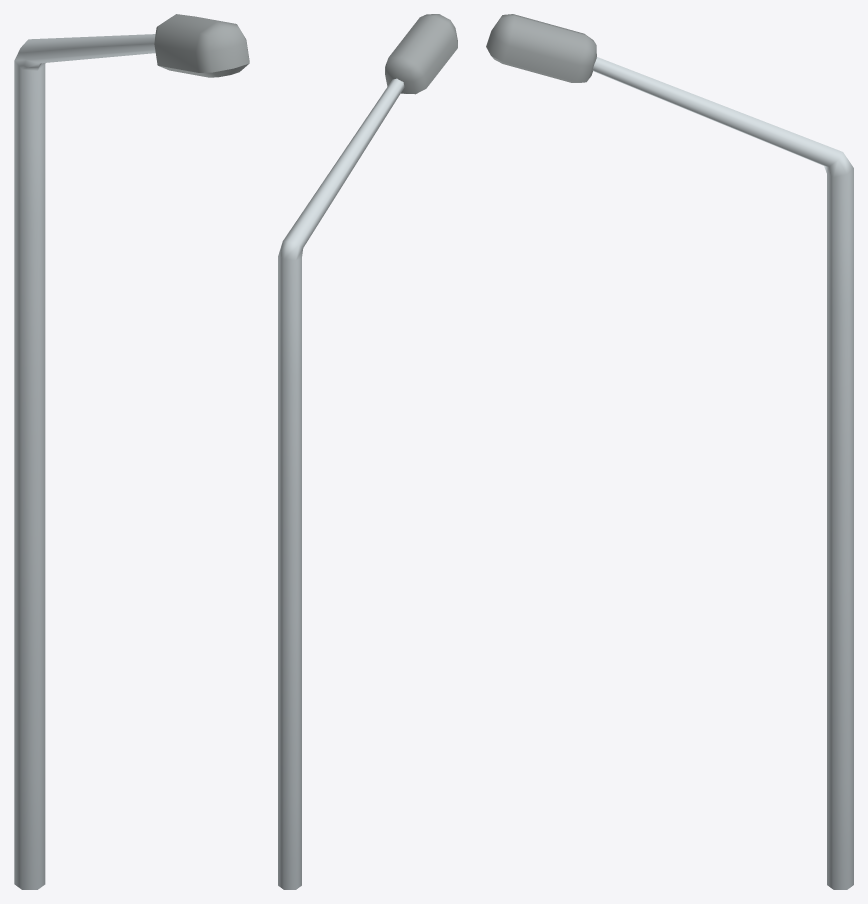
The model's file is city2-lamppost-01.glb.
The picture shows the model from 3 angles, left to right: view 1: azimuth 30°, elevation 25°; view 2: azimuth 150°, elevation 25°; view 3: azimuth 270°, elevation 25°; orthographic projection. The views are drawn at different scales.
Visible parts, largest first — view 1: Lamppost_01; view 2: Lamppost_01; view 3: Lamppost_01.
Boxes of the visible parts, left/top/right/bottom form: Lamppost_01: left=14, top=14, right=249, bottom=889; Lamppost_01: left=278, top=14, right=457, bottom=889; Lamppost_01: left=486, top=14, right=853, bottom=889.
Bounding box in the file's own units: 0.3688 × 6.92 × 2.66.
Materials: 1 (1 with a texture image).
